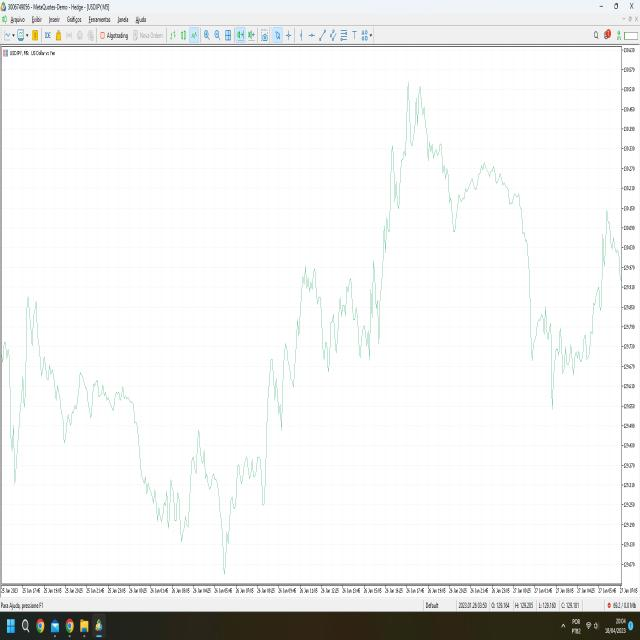bandeira_alta: (261, 334, 304, 522)
fundo_duplo: (348, 262, 374, 368)
topo_duplo: (21, 280, 44, 368)
